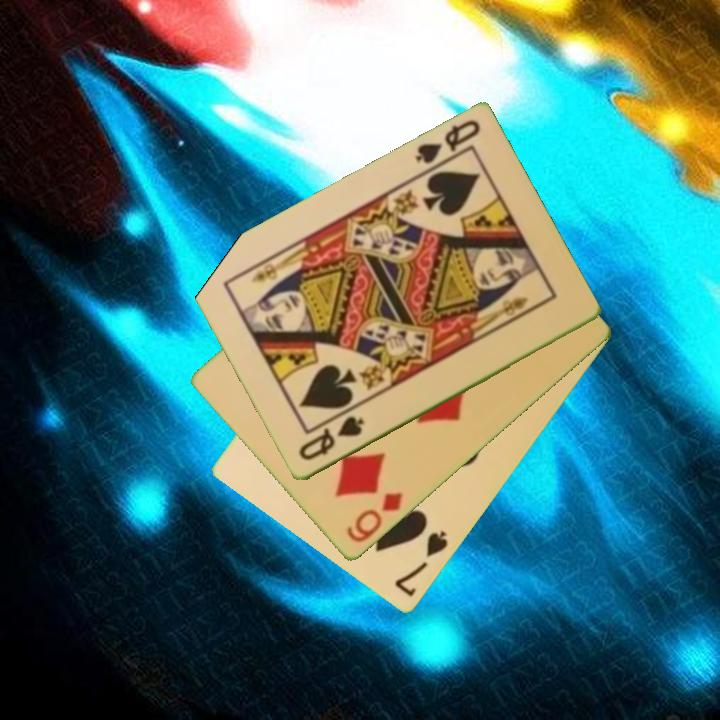6d: (343, 489, 406, 547)
7s: (391, 527, 451, 601)
Qs: (411, 117, 483, 176), (295, 413, 367, 464)
